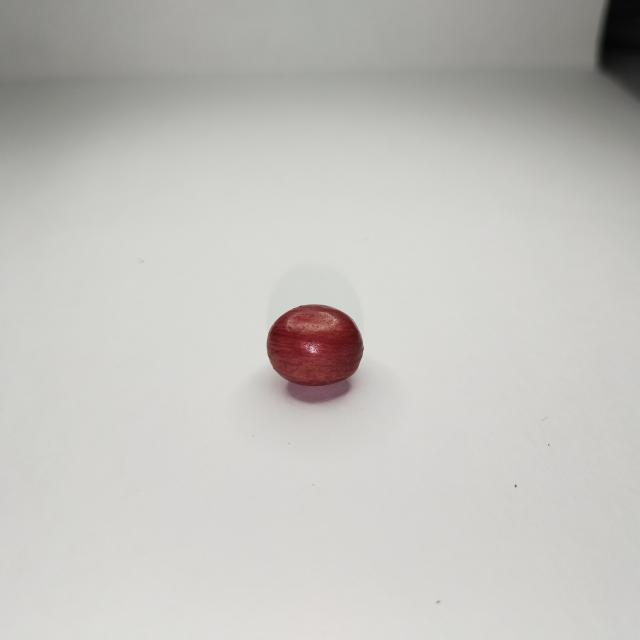Sano: (267, 305, 362, 389)
